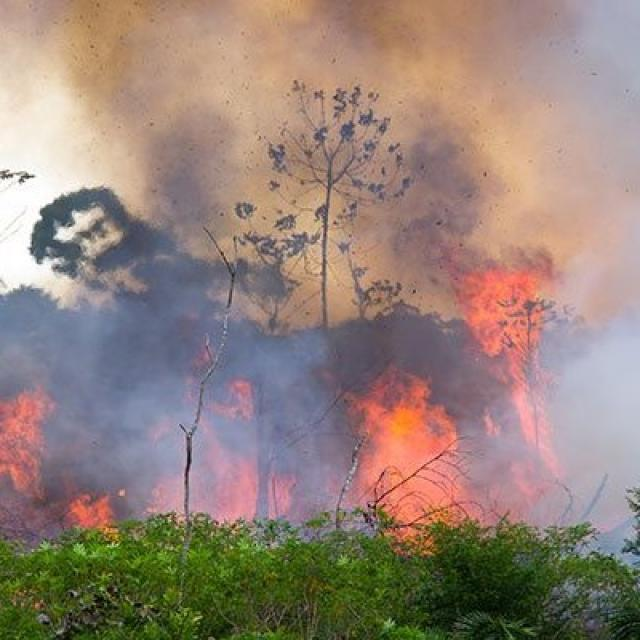Fire: (311, 250, 570, 553)
Smoke: (42, 0, 306, 413), (306, 0, 640, 250)
